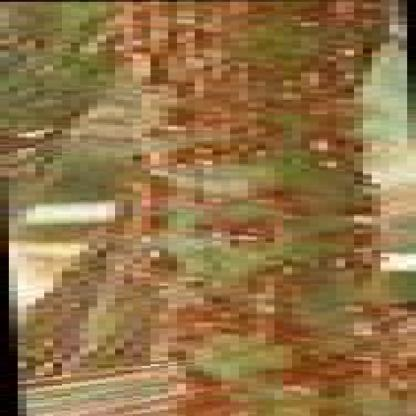wheat Stem Rust: (202, 285, 388, 400), (193, 182, 377, 277), (155, 5, 334, 96), (172, 99, 347, 173)
